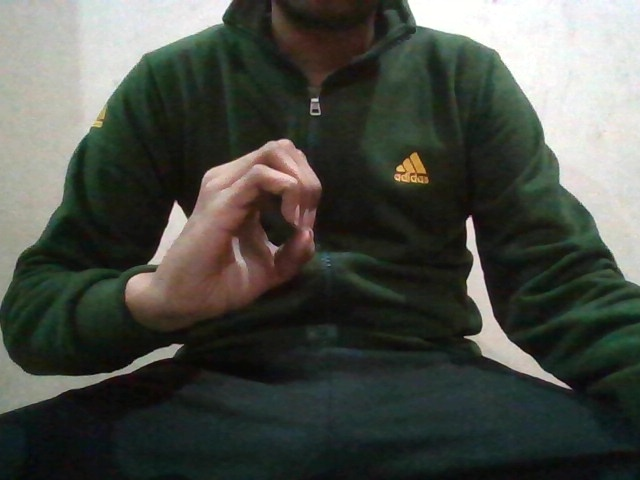O: (174, 137, 328, 313)
